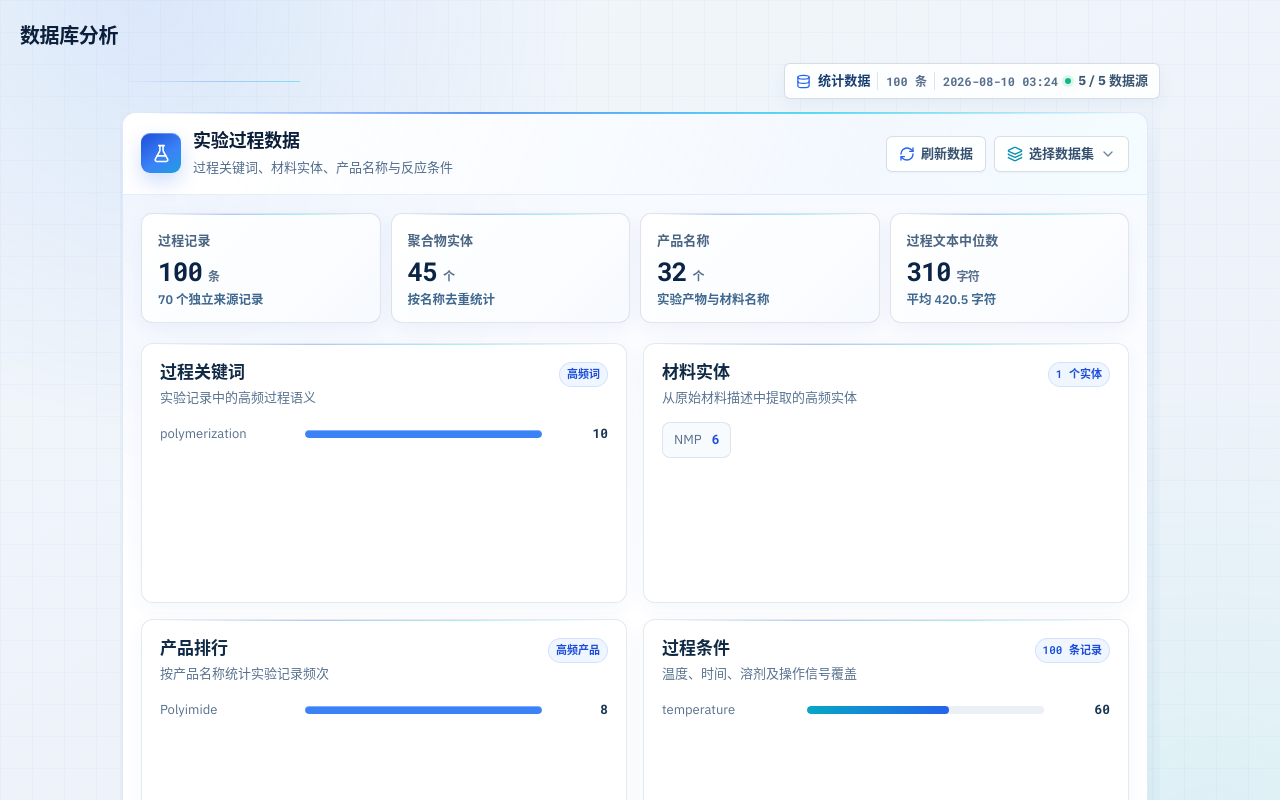
Test: 数据库分析工作台 › 手动刷新只读取已生成的统计，并保留当前视图
This screenshot has width=1280, height=800.
Expected: the heading "过程关键词" is shown, [160,361,245,384]
Click the button "刷新数据" at (936, 154), box [886,136,986,172]
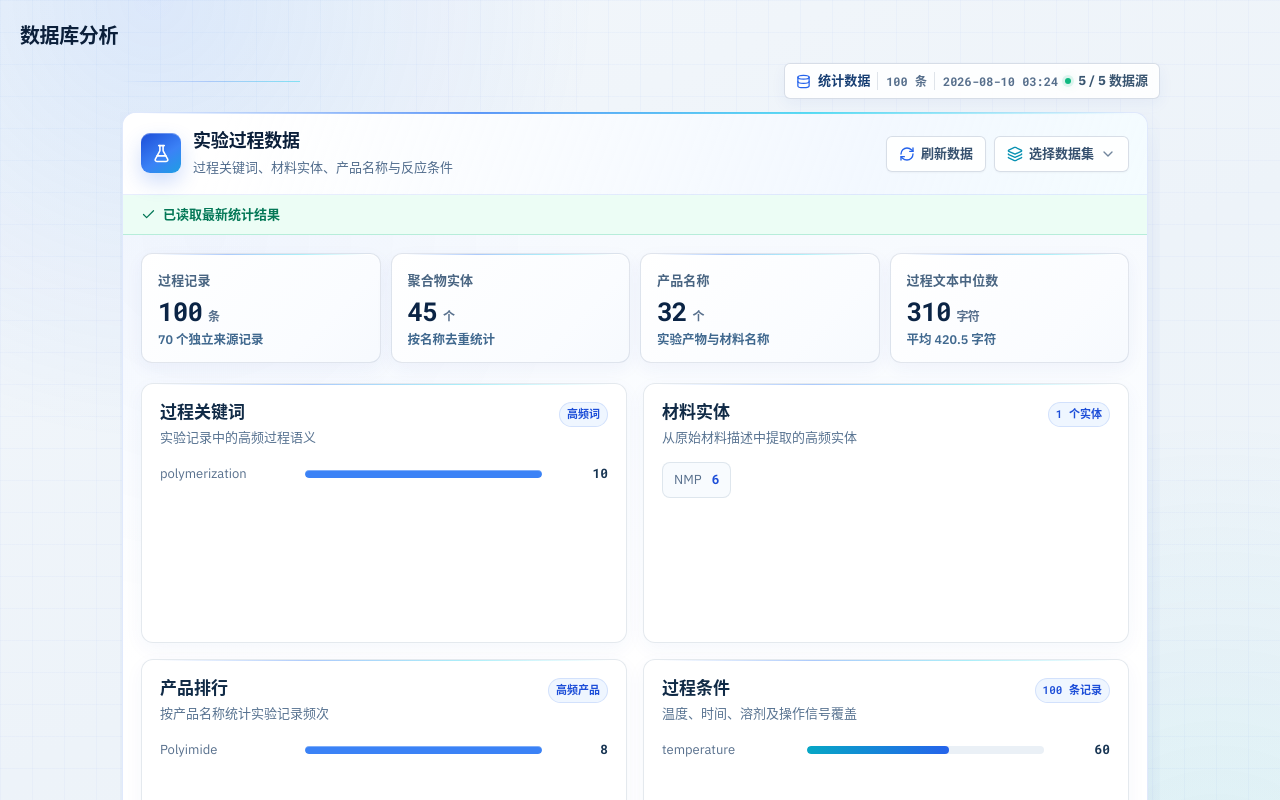
Expected: the text "统计数据" is shown, [818,71,870,91]
Now the text "已读取最新统计结果" is shown, box [141,205,280,224]
